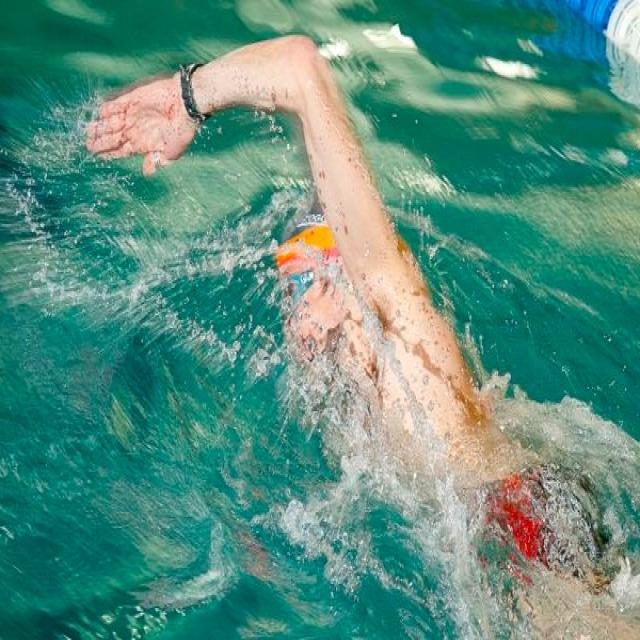Swimming: (77, 39, 640, 631)
